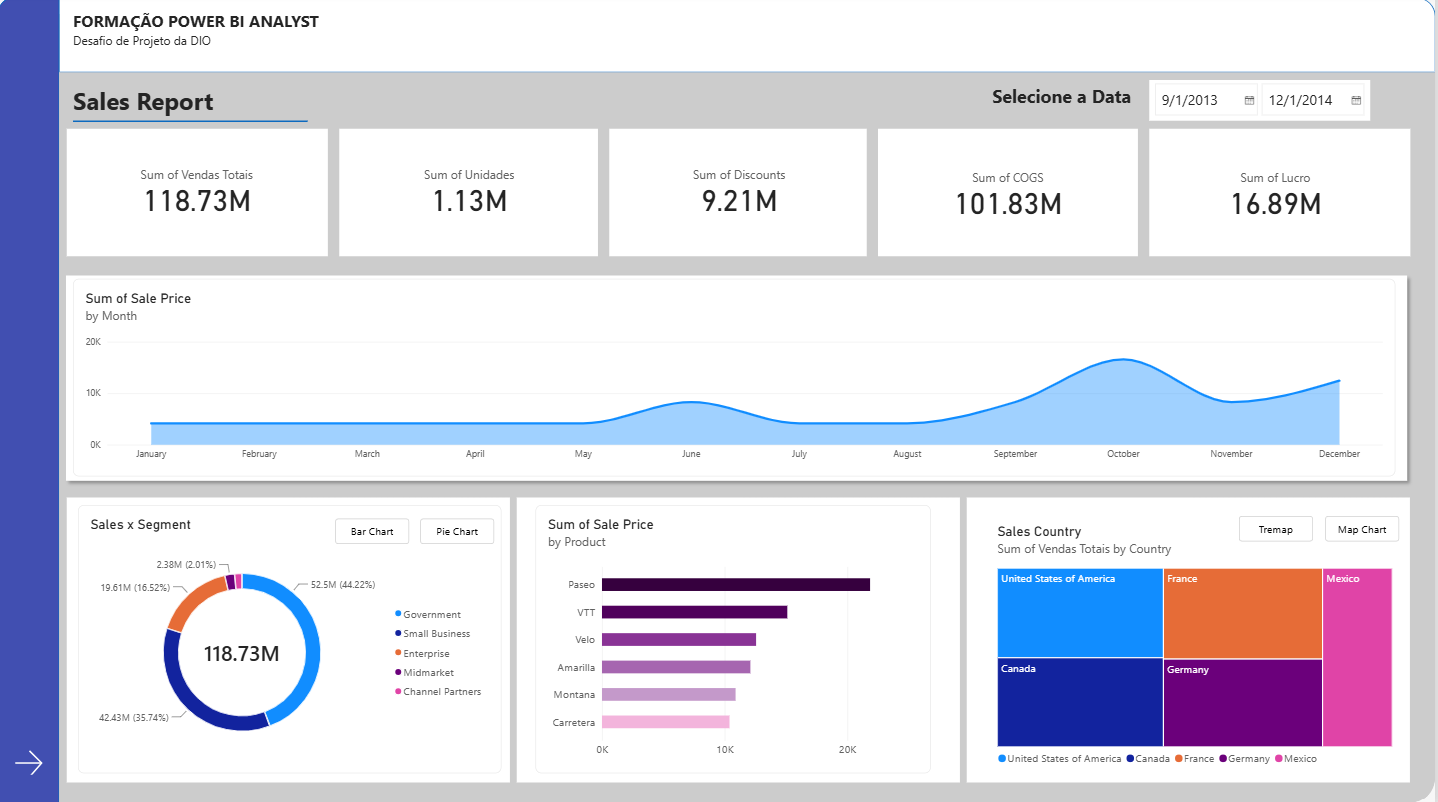

The dashboard page shown, as its layout file describes it:
{"tool":"powerbi","page":{"name":"Page 1","canvas":[1920,1080],"ordinal":0},"visuals":[{"type":"shape","box":[0,25.2,1920,1055.5],"z":0},{"type":"shape","box":[91.8,179.5,349,170.3],"z":0,"group":"g1"},{"type":"group","id":"g1","title":"Cartoes","box":[91.8,179.5,349,170.3],"z":0,"group":"g2"},{"type":"shape","box":[0,3.3,81.8,1077],"z":1000},{"type":"shape","box":[816.5,179.5,344,170.3],"z":1000,"group":"g2"},{"type":"shape","box":[81.8,3.3,1838.4,100.2],"z":2000},{"type":"shape","box":[1175.1,179.5,347.3,170.3],"z":2000,"group":"g2"},{"type":"map","title":"Sales Country","fields":{"Category":["financials.Country"],"Size":["Sum(financials.Vendas Totais)"]},"box":[1318.4,680.8,549.3,358.4],"z":2000,"group":"g3"},{"type":"barChart","title":"Sales x Segment","fields":{"Category":["financials.Segment"],"Y":["Sum(financials.Sale Price)"]},"box":[100.9,680.8,572.8,358.4],"z":2250,"group":"g4"},{"type":"donutChart","title":"Sales x Segment","fields":{"Category":["financials.Segment"],"Y":["Sum(financials.Vendas Totais)"]},"box":[108.1,680.8,565.6,358.4],"z":2875,"group":"g4"},{"type":"textbox","box":[100.2,20,347.3,68.5],"z":3000},{"type":"shape","box":[1537.4,179.5,349,170.3],"z":3000,"group":"g2"},{"type":"treemap","title":"Sales Country","fields":{"Group":["financials.Country"],"Values":["Sum(financials.Vendas Totais)"]},"box":[1318.9,690.8,559.3,359],"z":3000,"group":"g3"},{"type":"actionButton","title":"Button - Map","box":[1764.3,687.4,114.8,50.1],"z":3250,"group":"g3"},{"type":"actionButton","title":"Button - Tremap","box":[1649.5,687.4,114.8,50.1],"z":3500,"group":"g3"},{"type":"actionButton","title":"Button - Pie","box":[557.3,690.8,114.8,50.1],"z":3500,"group":"g4"},{"type":"shape","box":[100.9,156.7,313.4,23.4],"z":4000},{"type":"shape","box":[456,179.8,345.6,170.3],"z":4000,"group":"g2"},{"type":"actionButton","title":"Button - Bar","box":[442.5,690.8,114.8,50.1],"z":4000,"group":"g4"},{"type":"textbox","box":[100.9,118.9,299,48.6],"z":5000},{"type":"group","id":"g2","title":"Group 1","box":[91.8,179.5,1794.8,171.1],"z":6000},{"type":"shape","box":[81.4,365.2,1809.4,292.2],"z":7000},{"type":"shape","box":[91.9,671.8,592.2,380.7],"z":8000},{"type":"shape","box":[693.3,671.3,592.2,380.7],"z":9000},{"type":"shape","box":[1294.7,671.3,592.2,380.7],"z":10000},{"type":"areaChart","fields":{"Category":["financials.Date.Variation.Date Hierarchy.Month"],"Y":["Sum(financials.Sale Price)"]},"box":[100.2,379,1766.6,263.8],"z":11000},{"type":"cardVisual","fields":{"Data":["Sum(financials.Vendas Totais)"]},"box":[111.9,187,307.2,153.6],"z":12000},{"type":"cardVisual","fields":{"Data":["Sum(financials.Unidades)"]},"box":[475.5,187.3,307.2,153.6],"z":13000},{"type":"cardVisual","fields":{"Data":["Sum(financials.Discounts)"]},"box":[835.7,187.3,307.2,153.6],"z":14000},{"type":"cardVisual","fields":{"Data":["Sum(financials.COGS)"]},"box":[1195.8,189.9,307.2,153.6],"z":15000},{"type":"cardVisual","fields":{"Data":["Sum(financials.Lucro)"]},"box":[1552.7,189.9,307.2,153.6],"z":16000},{"type":"clusteredBarChart","fields":{"Category":["financials.Product"],"Y":["Sum(financials.Sale Price)"]},"box":[718.6,680.8,527.7,358.4],"z":17000},{"type":"slicer","fields":{"Values":["financials.Date"]},"box":[1538.2,113.5,295.4,54],"z":18000},{"type":"textbox","box":[1318.4,118.9,203.5,50.4],"z":19000},{"type":"group","id":"g3","title":"Sales Country","box":[1318.4,680.8,560.7,368.9],"z":20000},{"type":"group","id":"g4","title":"Sales Segment","box":[100.9,680.8,572.8,358.4],"z":21000},{"type":"actionButton","box":[0,995.5,81.4,54.3],"z":22000}]}

Visuals, with their boxes on the page's 1920x1080 design canvas (x1, y1, x2, y2). These are canvas units, not pixel positions in the 1438x802 screenshot, which may show the page scaled, cropped or inside an application window:
shape: BBox(0, 25, 1920, 1081)
shape: BBox(92, 180, 441, 350)
"Cartoes" group: BBox(92, 180, 441, 350)
shape: BBox(0, 3, 82, 1080)
shape: BBox(816, 180, 1160, 350)
shape: BBox(82, 3, 1920, 104)
shape: BBox(1175, 180, 1522, 350)
"Sales Country" map: BBox(1318, 681, 1868, 1039)
"Sales x Segment" barChart: BBox(101, 681, 674, 1039)
"Sales x Segment" donutChart: BBox(108, 681, 674, 1039)
textbox: BBox(100, 20, 448, 88)
shape: BBox(1537, 180, 1886, 350)
"Sales Country" treemap: BBox(1319, 691, 1878, 1050)
"Button - Map" actionButton: BBox(1764, 687, 1879, 738)
"Button - Tremap" actionButton: BBox(1650, 687, 1764, 738)
"Button - Pie" actionButton: BBox(557, 691, 672, 741)
shape: BBox(101, 157, 414, 180)
shape: BBox(456, 180, 802, 350)
"Button - Bar" actionButton: BBox(442, 691, 557, 741)
textbox: BBox(101, 119, 400, 168)
"Group 1" group: BBox(92, 180, 1887, 351)
shape: BBox(81, 365, 1891, 657)
shape: BBox(92, 672, 684, 1052)
shape: BBox(693, 671, 1286, 1052)
shape: BBox(1295, 671, 1887, 1052)
areaChart - financials.Date.Variation.Date Hierarchy.Month x Sum(financials.Sale Price): BBox(100, 379, 1867, 643)
cardVisual - Sum(financials.Vendas Totais): BBox(112, 187, 419, 341)
cardVisual - Sum(financials.Unidades): BBox(476, 187, 783, 341)
cardVisual - Sum(financials.Discounts): BBox(836, 187, 1143, 341)
cardVisual - Sum(financials.COGS): BBox(1196, 190, 1503, 344)
cardVisual - Sum(financials.Lucro): BBox(1553, 190, 1860, 344)
clusteredBarChart - financials.Product x Sum(financials.Sale Price): BBox(719, 681, 1246, 1039)
slicer - financials.Date: BBox(1538, 114, 1834, 168)
textbox: BBox(1318, 119, 1522, 169)
"Sales Country" group: BBox(1318, 681, 1879, 1050)
"Sales Segment" group: BBox(101, 681, 674, 1039)
actionButton: BBox(0, 996, 81, 1050)
